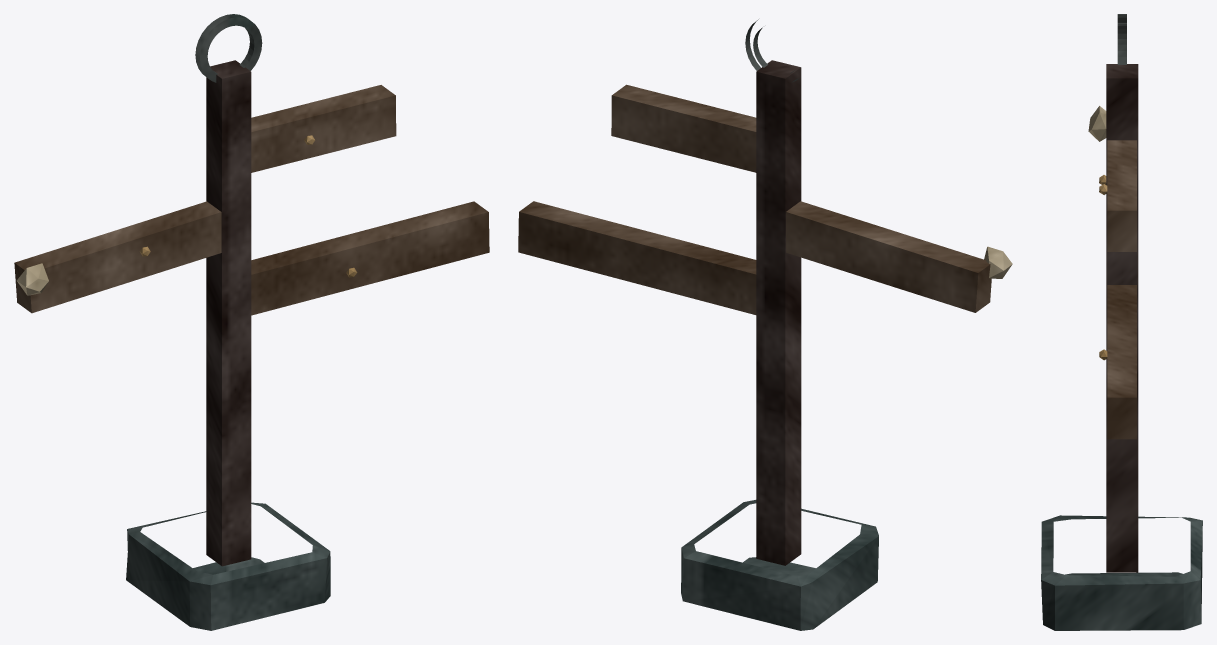
The model's file is 0630_signpost_05.glb.
The picture shows the model from 3 angles, left to right: view 1: azimuth 30°, elevation 25°; view 2: azimuth 150°, elevation 25°; view 3: azimuth 270°, elevation 25°; orthographic projection.
Parts seen in each view (by area): view 1: wood, wood_dark, stone_dark, iron, bone; view 2: wood, wood_dark, stone_dark; view 3: stone_dark, wood_dark, wood, iron, bone.
Boxes of the visible parts, x1=… form: wood: x1=14, y1=85, x2=489, y2=315; wood_dark: x1=206, y1=60, x2=251, y2=566; stone_dark: x1=126, y1=502, x2=330, y2=630; iron: x1=195, y1=14, x2=262, y2=82; bone: x1=16, y1=263, x2=48, y2=295; wood: x1=518, y1=84, x2=991, y2=314; wood_dark: x1=756, y1=60, x2=801, y2=565; stone_dark: x1=681, y1=500, x2=878, y2=630; stone_dark: x1=1041, y1=515, x2=1202, y2=630; wood_dark: x1=1106, y1=64, x2=1138, y2=572; wood: x1=1107, y1=140, x2=1136, y2=439; iron: x1=1117, y1=14, x2=1126, y2=64; bone: x1=1088, y1=106, x2=1106, y2=141.
Bounding box in the file's own units: 2.42 × 2.83 × 0.7093.
Materials: 6 (6 with a texture image).
